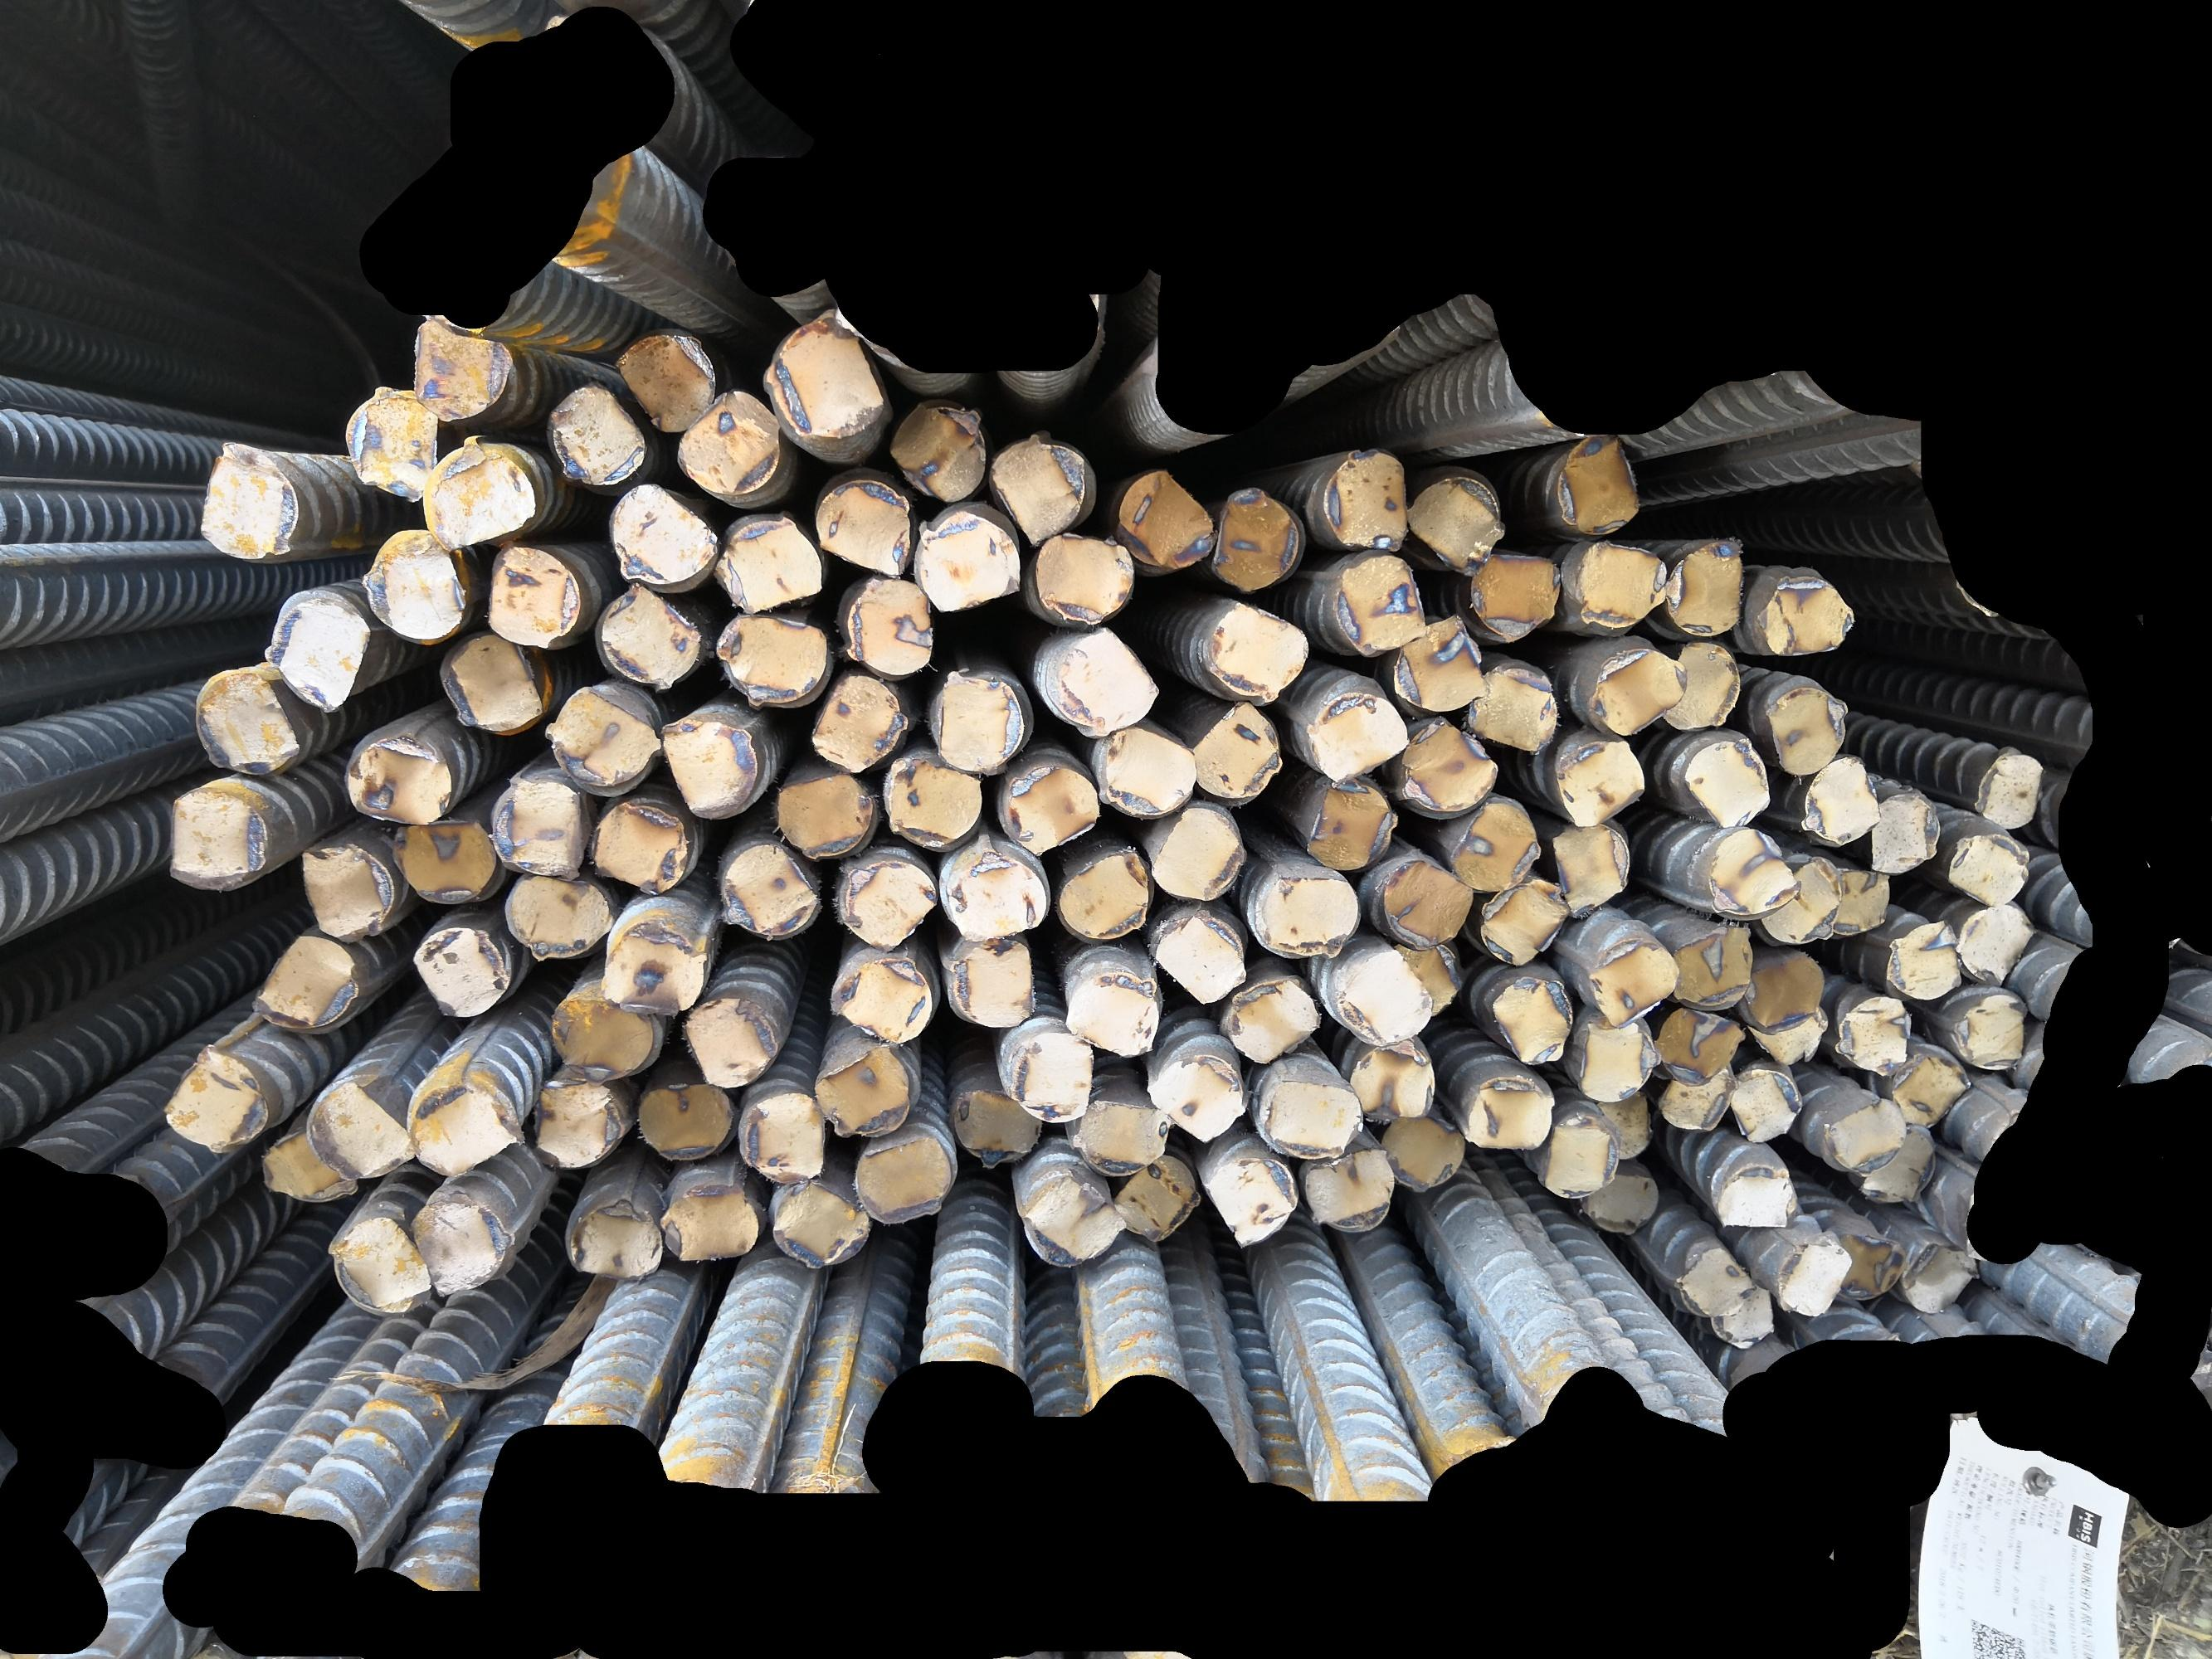bar: (758, 307, 889, 442), (259, 587, 375, 720), (543, 678, 663, 799), (412, 440, 538, 555), (589, 577, 704, 698), (598, 476, 720, 590), (1195, 591, 1317, 705), (668, 384, 785, 502), (353, 528, 470, 645), (1040, 621, 1162, 733), (330, 381, 442, 502), (982, 428, 1092, 550), (162, 1045, 280, 1158), (712, 604, 831, 714), (905, 504, 1025, 615), (198, 442, 303, 567), (399, 1077, 524, 1179), (316, 1215, 437, 1318), (298, 1075, 415, 1181), (923, 664, 1031, 778), (405, 314, 515, 425), (188, 669, 303, 776), (497, 864, 617, 965), (163, 783, 274, 892), (607, 324, 716, 434), (479, 774, 590, 882), (714, 835, 826, 941), (1181, 693, 1287, 803), (712, 512, 825, 615), (247, 934, 364, 1034), (1398, 711, 1505, 820), (592, 919, 707, 1019), (803, 670, 914, 774), (337, 732, 458, 826), (1017, 1163, 1126, 1268), (811, 468, 913, 580), (546, 376, 646, 489), (541, 985, 659, 1080), (585, 792, 693, 896), (831, 852, 940, 955), (482, 539, 582, 650), (655, 716, 760, 822), (889, 393, 987, 506), (403, 1195, 512, 1296), (1147, 799, 1250, 903), (438, 629, 543, 732), (1142, 907, 1249, 1008), (1118, 463, 1218, 571), (1140, 1047, 1249, 1146), (382, 815, 498, 908), (1208, 481, 1303, 594), (1402, 470, 1505, 574), (406, 922, 512, 1022), (1193, 1149, 1300, 1248), (1298, 687, 1411, 781), (297, 835, 399, 939), (1095, 721, 1202, 820), (839, 572, 937, 679), (879, 753, 987, 851), (1581, 930, 1684, 1031), (1029, 528, 1133, 628), (1567, 533, 1671, 634), (829, 948, 934, 1047), (1330, 551, 1428, 657), (521, 1075, 628, 1172), (1258, 863, 1360, 964), (1552, 429, 1644, 541), (767, 769, 875, 864), (1252, 1074, 1367, 1163), (1331, 948, 1436, 1045), (1322, 443, 1414, 553), (845, 1132, 952, 1227), (1583, 642, 1690, 737), (1050, 844, 1151, 944), (812, 1039, 912, 1139), (1064, 960, 1163, 1059), (1754, 567, 1860, 659), (675, 995, 777, 1092), (1542, 813, 1633, 921), (1380, 849, 1476, 950), (1300, 774, 1397, 873), (1462, 546, 1559, 645), (943, 854, 1047, 946), (562, 1190, 665, 1282), (1391, 610, 1482, 713), (1000, 764, 1101, 857), (1662, 528, 1747, 639), (769, 1176, 870, 1268), (648, 1183, 761, 1265), (944, 931, 1036, 1030), (1476, 873, 1571, 969), (733, 1089, 827, 1185), (1075, 1087, 1172, 1180), (1676, 735, 1773, 829), (1220, 975, 1322, 1065), (1301, 1147, 1402, 1236), (1443, 801, 1542, 892), (947, 1080, 1043, 1172), (1703, 827, 1800, 918), (1549, 738, 1646, 829), (1464, 663, 1557, 757), (1488, 970, 1576, 1068), (1667, 914, 1754, 1014), (636, 1075, 733, 1163), (251, 1128, 362, 1205), (1660, 635, 1747, 733), (1761, 686, 1853, 777), (1570, 1008, 1659, 1101), (1798, 753, 1886, 848), (1644, 999, 1742, 1082), (1762, 852, 1846, 951), (1952, 895, 2039, 990), (1943, 986, 2035, 1074), (1461, 1071, 1557, 1155), (1108, 1160, 1201, 1245), (1814, 1092, 1912, 1172), (1733, 951, 1827, 1036), (1011, 1031, 1094, 1126), (1537, 1112, 1622, 1204), (1374, 1110, 1469, 1192), (1830, 986, 1912, 1079), (1347, 1040, 1435, 1126), (1946, 824, 2034, 907), (1708, 1158, 1805, 1233), (1893, 1238, 1981, 1319), (1869, 786, 1946, 878), (1880, 914, 1961, 1001), (1669, 1241, 1754, 1323), (1775, 1231, 1854, 1319), (1388, 932, 1467, 1021), (1888, 1048, 1971, 1131), (1857, 1126, 1942, 1206), (1742, 999, 1836, 1071), (1827, 1223, 1907, 1305), (1726, 1061, 1803, 1145), (1975, 744, 2049, 831), (1581, 1165, 1664, 1241), (1818, 860, 1893, 937), (1660, 1059, 1735, 1136), (1591, 1086, 1657, 1162), (1713, 1282, 1779, 1350)
